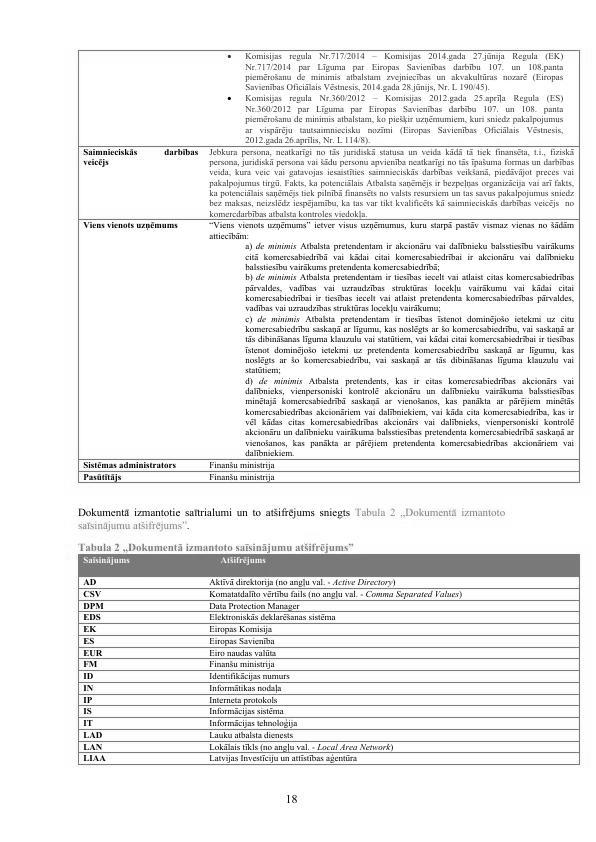table: (74, 46, 583, 489), (78, 552, 586, 772)
text: (71, 504, 512, 531), (75, 540, 357, 552)
